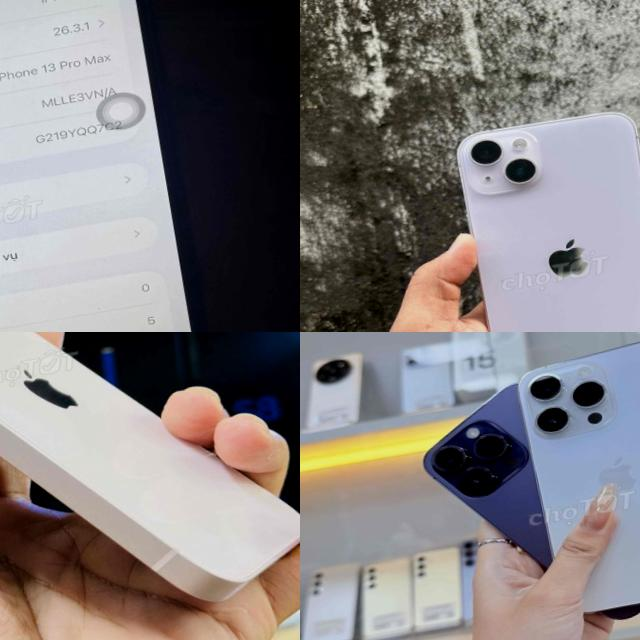gen_12_13: (0, 332, 300, 640), (0, 0, 234, 332)
gen_14: (435, 94, 640, 332), (511, 332, 640, 629)
